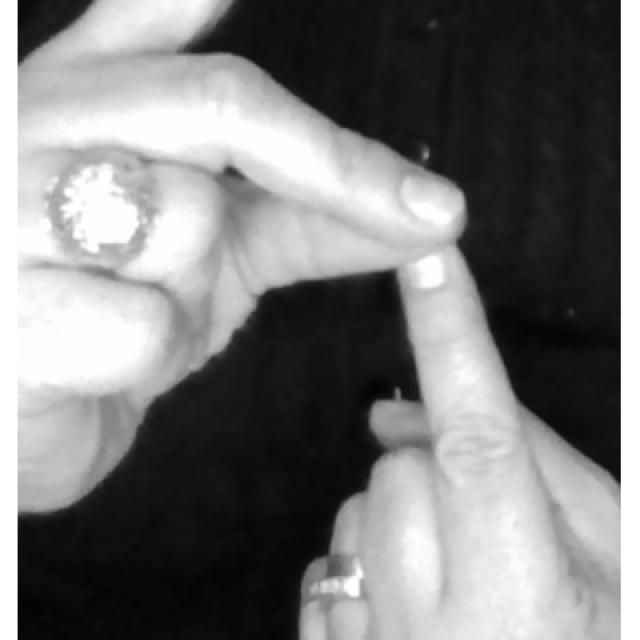I-: (18, 53, 622, 637)
